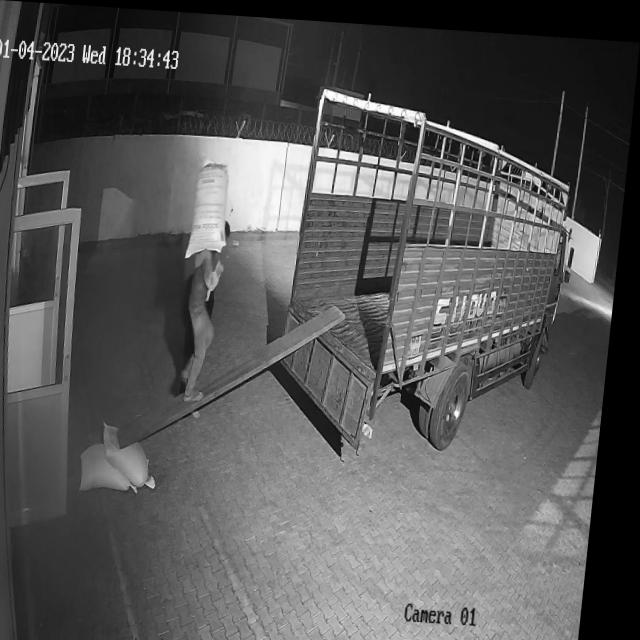sack: (189, 158, 237, 258), (106, 420, 171, 487), (86, 439, 152, 491)
